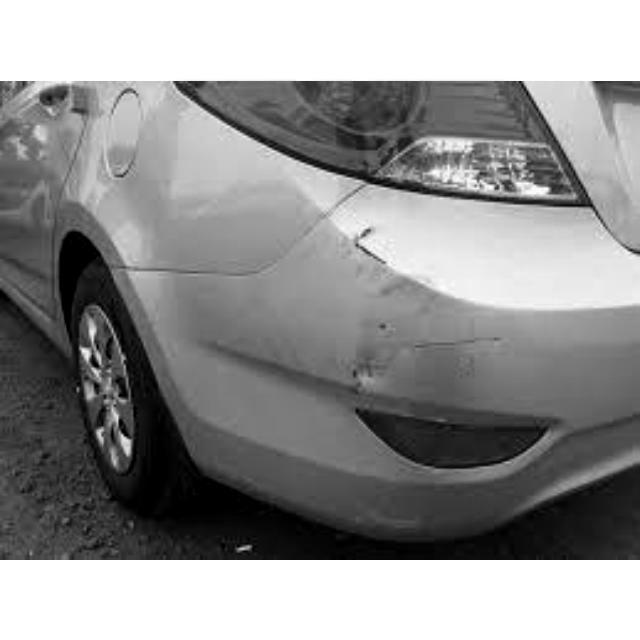rear-bumper-dent: (215, 199, 637, 549)
